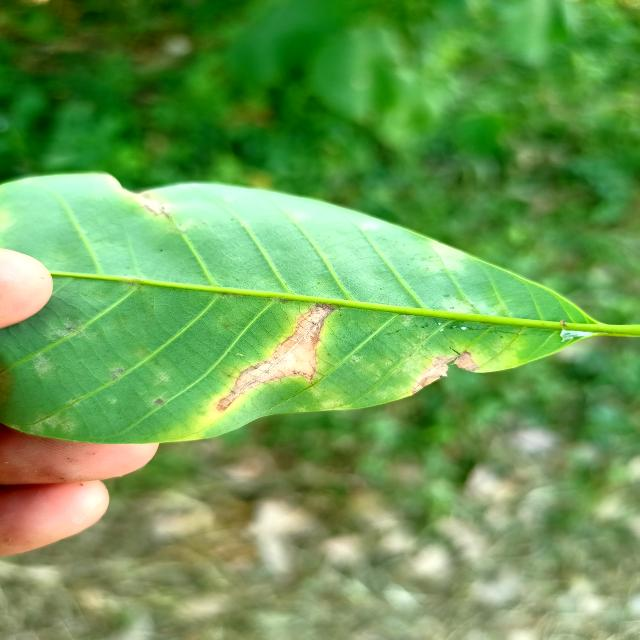Leaf-Blight: (218, 303, 334, 411), (413, 352, 477, 393)
